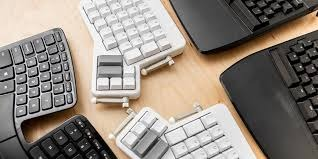keyboard: (1, 2, 316, 155)
